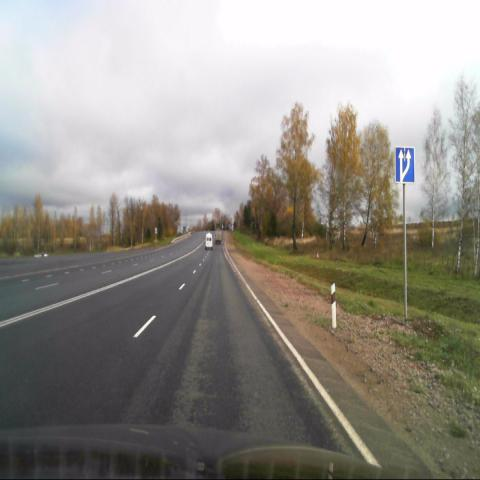5_15_3: (395, 147, 414, 183)
